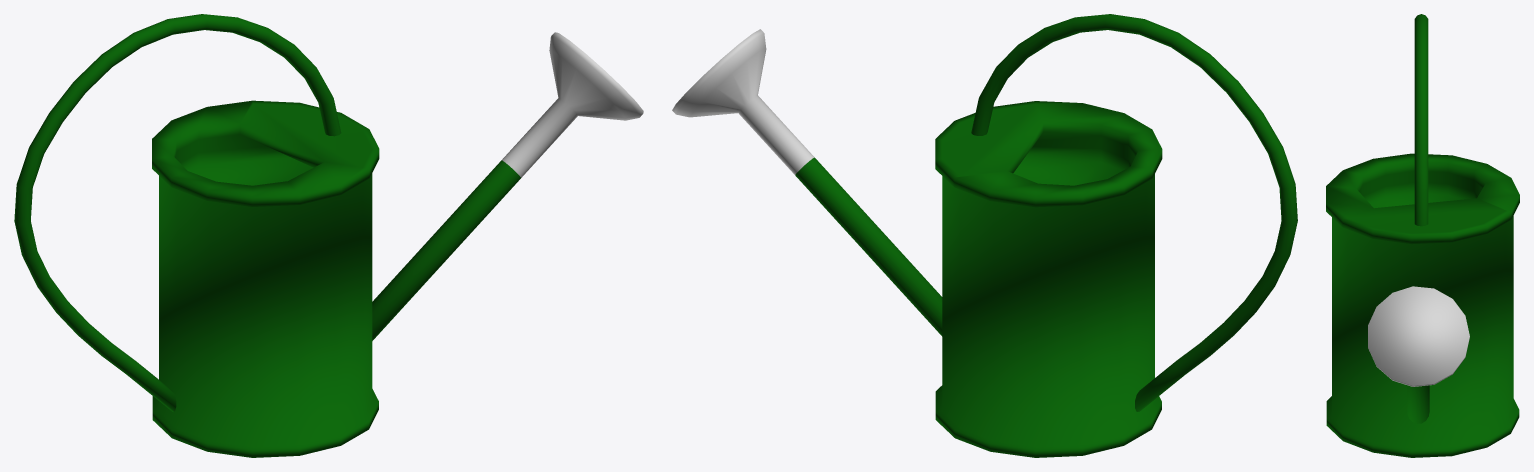
File: Gisskanne.fbx
3 views of the same model, side by side, from view 1: azimuth 30°, elevation 25°; view 2: azimuth 150°, elevation 25°; view 3: azimuth 270°, elevation 25° (orthographic). The views are drawn at different scales.
Visible parts, largest first — view 1: Cylinder.002; view 2: Cylinder.002; view 3: Cylinder.002.
Boxes of the visible parts, bbox=[...] form: Cylinder.002: bbox=[14, 14, 643, 457]; Cylinder.002: bbox=[672, 14, 1297, 457]; Cylinder.002: bbox=[1326, 14, 1519, 457].
Size of the model in its own units: 660 by 424 by 211.
